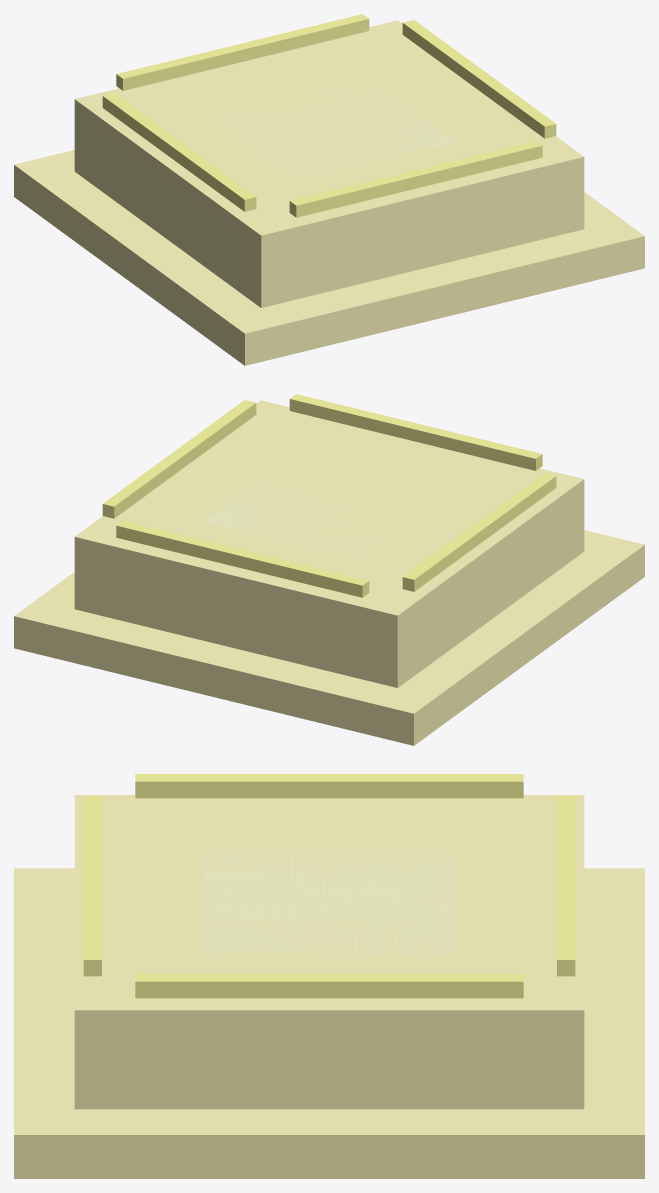
File: furniture_signal_cantilever_footing_collar.glb
3 renders of one model, top to bottom at view 1: azimuth 30°, elevation 25°; view 2: azimuth 150°, elevation 25°; view 3: azimuth 270°, elevation 25°, orthographic. The views are drawn at different scales.
Parts seen in each view (by area): view 1: collar_ring, base_pad, collar_opening, warning_band_front, warning_band_back, warning_band_right, warning_band_left; view 2: collar_ring, base_pad, collar_opening, warning_band_back, warning_band_front, warning_band_right, warning_band_left; view 3: collar_ring, base_pad, collar_opening, warning_band_left, warning_band_right, warning_band_front, warning_band_back.
Boxes of the visible parts, x1,y1,x2,y2 form: collar_ring: (74,20,584,307); base_pad: (14,150,644,365); collar_opening: (203,75,456,181); warning_band_front: (289,141,542,217); warning_band_back: (116,14,369,90); warning_band_right: (402,20,556,138); warning_band_left: (102,93,256,211); collar_ring: (74,400,584,687); base_pad: (14,530,644,745); collar_opening: (202,457,431,561); warning_band_back: (116,521,369,597); warning_band_front: (289,394,542,470); warning_band_right: (102,400,256,518); warning_band_left: (402,473,556,591); collar_ring: (74,795,584,1109); base_pad: (14,868,644,1178); collar_opening: (202,848,456,956); warning_band_left: (135,774,523,798); warning_band_right: (135,974,523,998); warning_band_front: (83,796,101,976); warning_band_back: (557,796,575,976).
Size of the model in its own units: 1.04 by 0.305 by 1.04.
